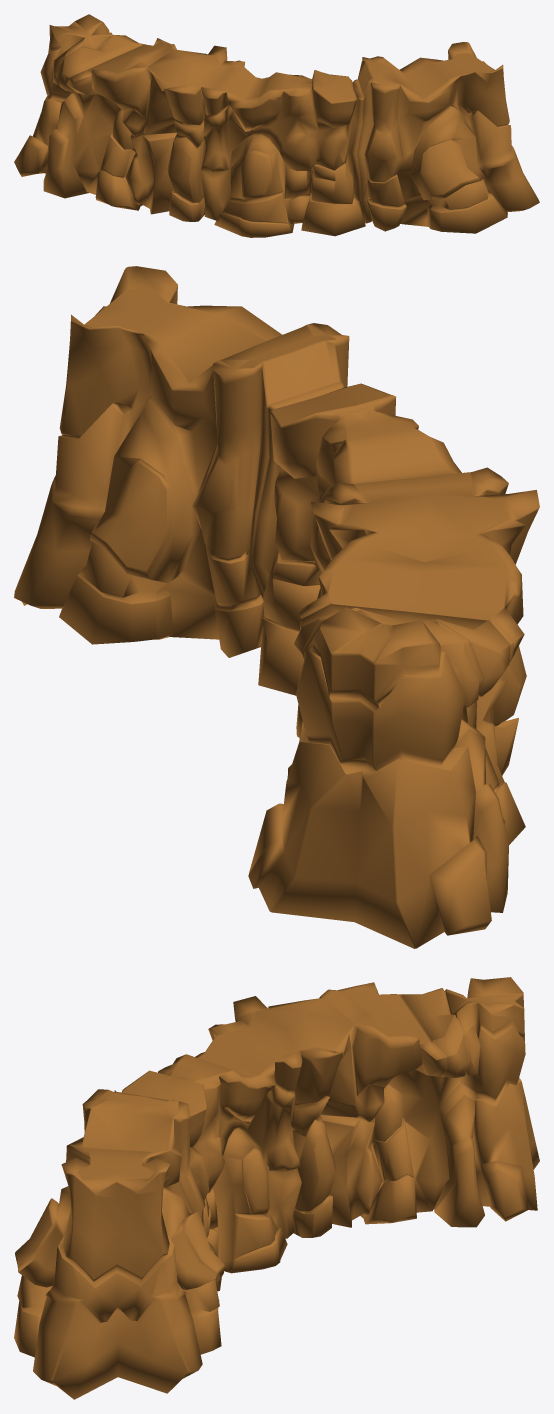
The model's file is rocks_bended.fbx.
The picture shows the model from 3 angles, top to bottom: view 1: azimuth 30°, elevation 25°; view 2: azimuth 150°, elevation 25°; view 3: azimuth 270°, elevation 25°; orthographic projection. The views are drawn at different scales.
Parts seen in each view (by area): view 1: Plane.001; view 2: Plane.001; view 3: Plane.001.
Boxes of the visible parts, left/top/right/bottom form: Plane.001: left=14, top=14, right=539, bottom=237; Plane.001: left=14, top=266, right=539, bottom=948; Plane.001: left=14, top=977, right=539, bottom=1399.
Bounding box in the file's own units: 1736 × 704 × 1576.
